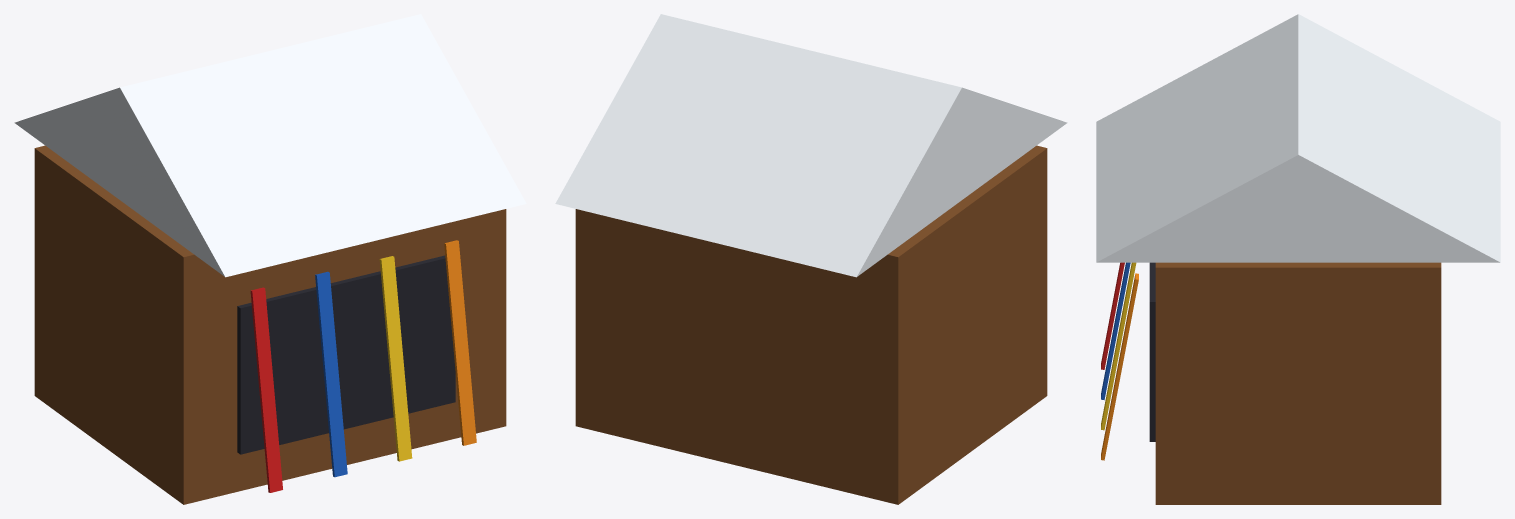
File: rental_hut.glb
3 views of the same model, side by side, from view 1: azimuth 30°, elevation 25°; view 2: azimuth 150°, elevation 25°; view 3: azimuth 270°, elevation 25° (orthographic). The views are drawn at different scales.
Visible parts, largest first — view 1: rental_hut; view 2: rental_hut; view 3: rental_hut.
Part boxes in pixels (bbox=[...]): rental_hut: bbox=[14, 14, 526, 504]; rental_hut: bbox=[555, 14, 1067, 504]; rental_hut: bbox=[1096, 14, 1500, 504].
Bounding box in the file's own units: 3 × 3.2 × 3.4.
